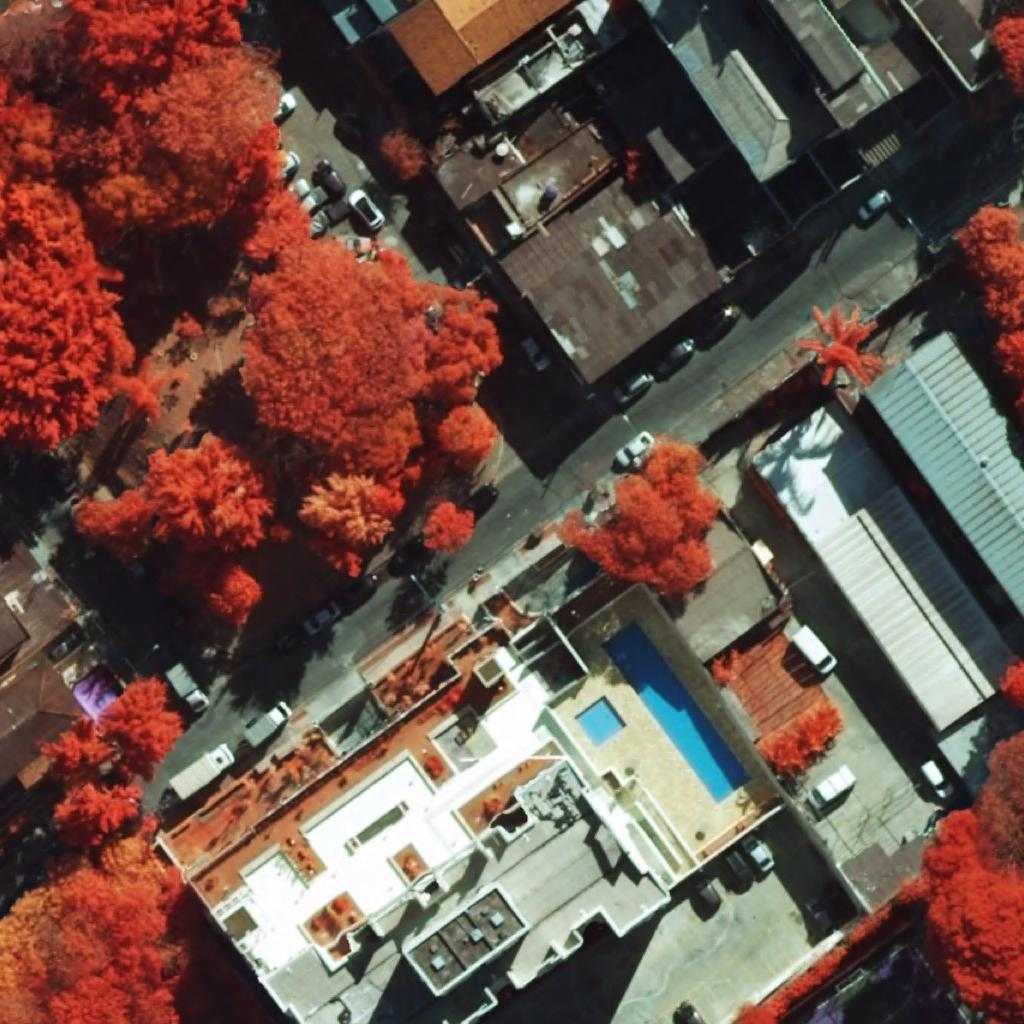pool: (602, 620, 752, 805), (575, 696, 625, 746)
